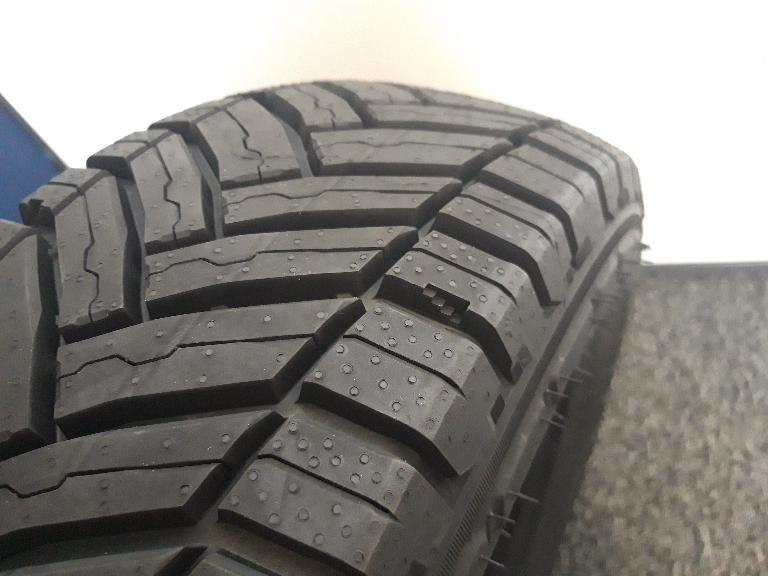temoin:100: (408, 281, 472, 330)
